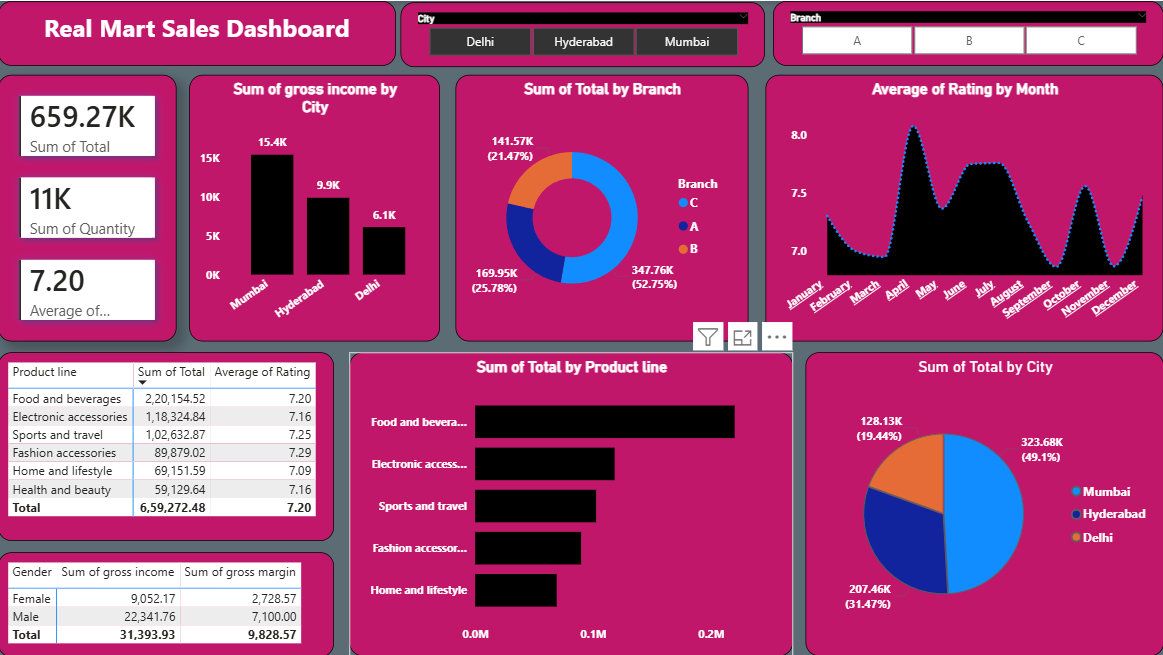

Layout of this report page (visuals, bound fields, positions):
{"tool":"powerbi","page":{"name":"dash board","canvas":[1280,720],"ordinal":2},"visuals":[{"type":"cardVisual","fields":{"Data":["Sum(Sheet1.Total)","Sum(Sheet1.Quantity)","Avg(Sheet1.Rating)"]},"box":[0,81.4,195.7,292.9],"z":0},{"type":"textbox","box":[0,0,437.1,71.4],"z":1000},{"type":"columnChart","fields":{"Y":["Sum(Sheet1.gross income)"],"Category":["Sheet1.City"]},"box":[209.9,80.8,275.1,293.2],"z":2000},{"type":"donutChart","fields":{"Category":["Sheet1.Branch"],"Y":["Sum(Sheet1.Total)"]},"box":[502.9,81.4,321.4,292.9],"z":3000},{"type":"areaChart","fields":{"Y":["Avg(Sheet1.Rating)"],"Category":["Sheet1.Date.Variation.Date Hierarchy.Month"]},"box":[842.9,81.4,437.1,292.9],"z":4000},{"type":"pivotTable","fields":{"Rows":["Sheet1.Product line"],"Values":["Sum(Sheet1.Total)","Avg(Sheet1.Rating)"]},"box":[0,386.2,368.8,207.5],"z":5000},{"type":"pivotTable","fields":{"Values":["Sum(Sheet1.gross income)","Sum(Sheet1.gross margin percentage)"],"Rows":["Sheet1.Gender"]},"box":[0,605,368.8,115],"z":6000},{"type":"barChart","fields":{"Category":["Sheet1.Product line"],"Y":["Sum(Sheet1.Total)"]},"box":[385,386.2,487.5,333.8],"z":7000},{"type":"pieChart","fields":{"Category":["Sheet1.City"],"Y":["Sum(Sheet1.Total)"]},"box":[886.2,386.2,393.8,333.8],"z":8000},{"type":"slicer","fields":{"Values":["Sheet1.City"]},"box":[442.5,1.2,400,71.2],"z":9000},{"type":"slicer","fields":{"Values":["Sheet1.Branch"]},"box":[851.2,0,428.8,71.2],"z":10000}]}

Visuals, with their boxes in screenshot pixels (x1, y1, x2, y2), scaled from the page's 1280x720 canvas onto the 1163x655 screenshot:
cardVisual - Sum(Sheet1.Total) x Sum(Sheet1.Quantity): {"x1": 0, "y1": 74, "x2": 178, "y2": 341}
textbox: {"x1": 0, "y1": 0, "x2": 397, "y2": 65}
columnChart - Sum(Sheet1.gross income) x Sheet1.City: {"x1": 191, "y1": 74, "x2": 441, "y2": 340}
donutChart - Sheet1.Branch x Sum(Sheet1.Total): {"x1": 457, "y1": 74, "x2": 749, "y2": 341}
areaChart - Avg(Sheet1.Rating) x Sheet1.Date.Variation.Date Hierarchy.Month: {"x1": 766, "y1": 74, "x2": 1162, "y2": 341}
pivotTable - Sheet1.Product line x Sum(Sheet1.Total): {"x1": 0, "y1": 351, "x2": 335, "y2": 540}
pivotTable - Sum(Sheet1.gross income) x Sum(Sheet1.gross margin percentage): {"x1": 0, "y1": 550, "x2": 335, "y2": 654}
barChart - Sheet1.Product line x Sum(Sheet1.Total): {"x1": 350, "y1": 351, "x2": 793, "y2": 654}
pieChart - Sheet1.City x Sum(Sheet1.Total): {"x1": 805, "y1": 351, "x2": 1162, "y2": 654}
slicer - Sheet1.City: {"x1": 402, "y1": 1, "x2": 765, "y2": 66}
slicer - Sheet1.Branch: {"x1": 773, "y1": 0, "x2": 1162, "y2": 65}
